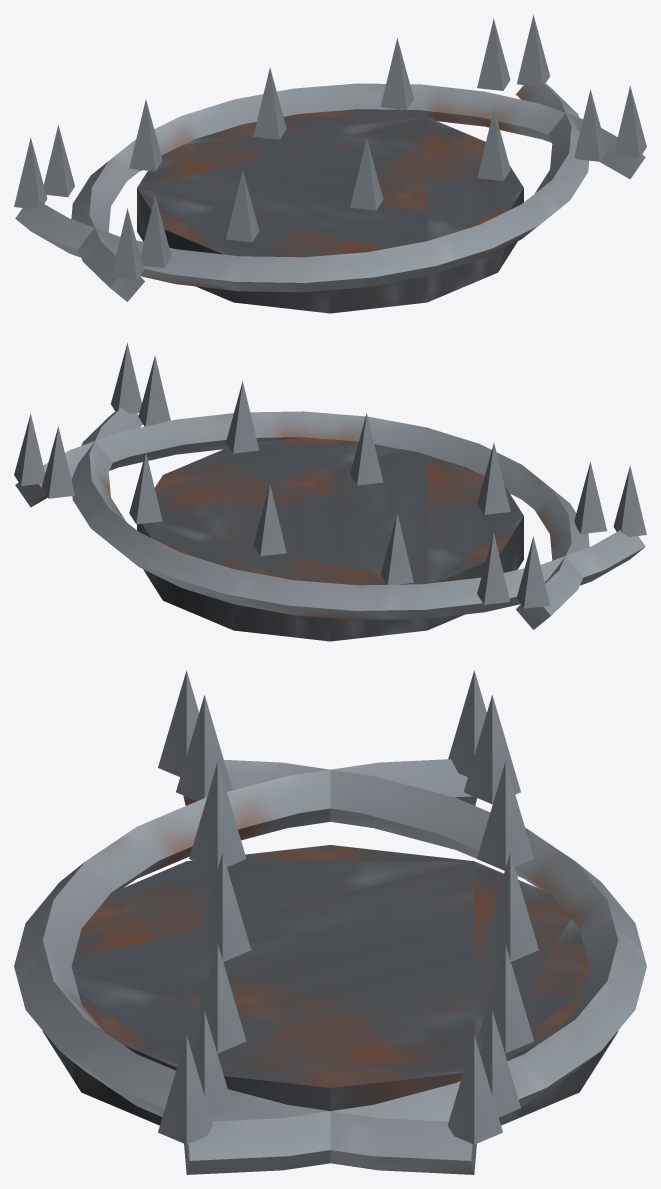
Rendered from SM_BearTrap.fbx.
3 views of the same model, one above another, from view 1: azimuth 30°, elevation 25°; view 2: azimuth 150°, elevation 25°; view 3: azimuth 270°, elevation 25° (orthographic). The views are drawn at different scales.
Parts seen in each view (by area): view 1: SM_BearTrap; view 2: SM_BearTrap; view 3: SM_BearTrap.
Part boxes in pixels (x1,y1,x2,y2): SM_BearTrap: [14, 14, 646, 313]; SM_BearTrap: [14, 342, 646, 641]; SM_BearTrap: [14, 670, 646, 1174].
Size of the model in its own units: 2.56 by 0.55 by 1.76.
Materials: 1 (1 with a texture image).
